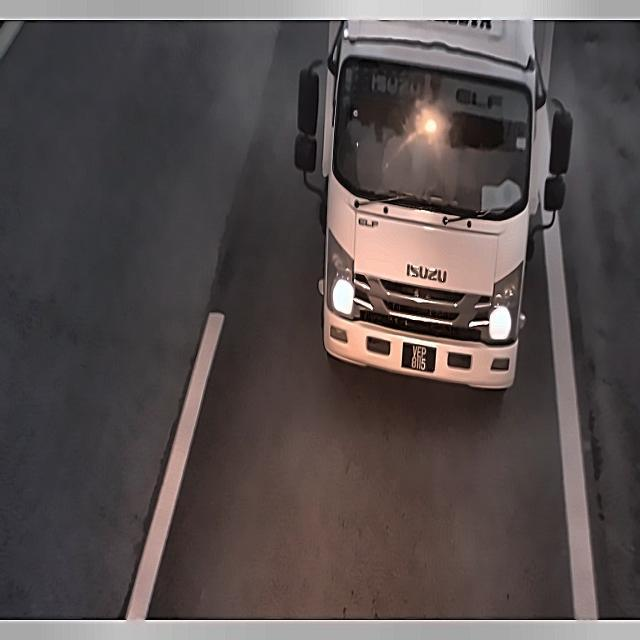car: (396, 334, 446, 380)
